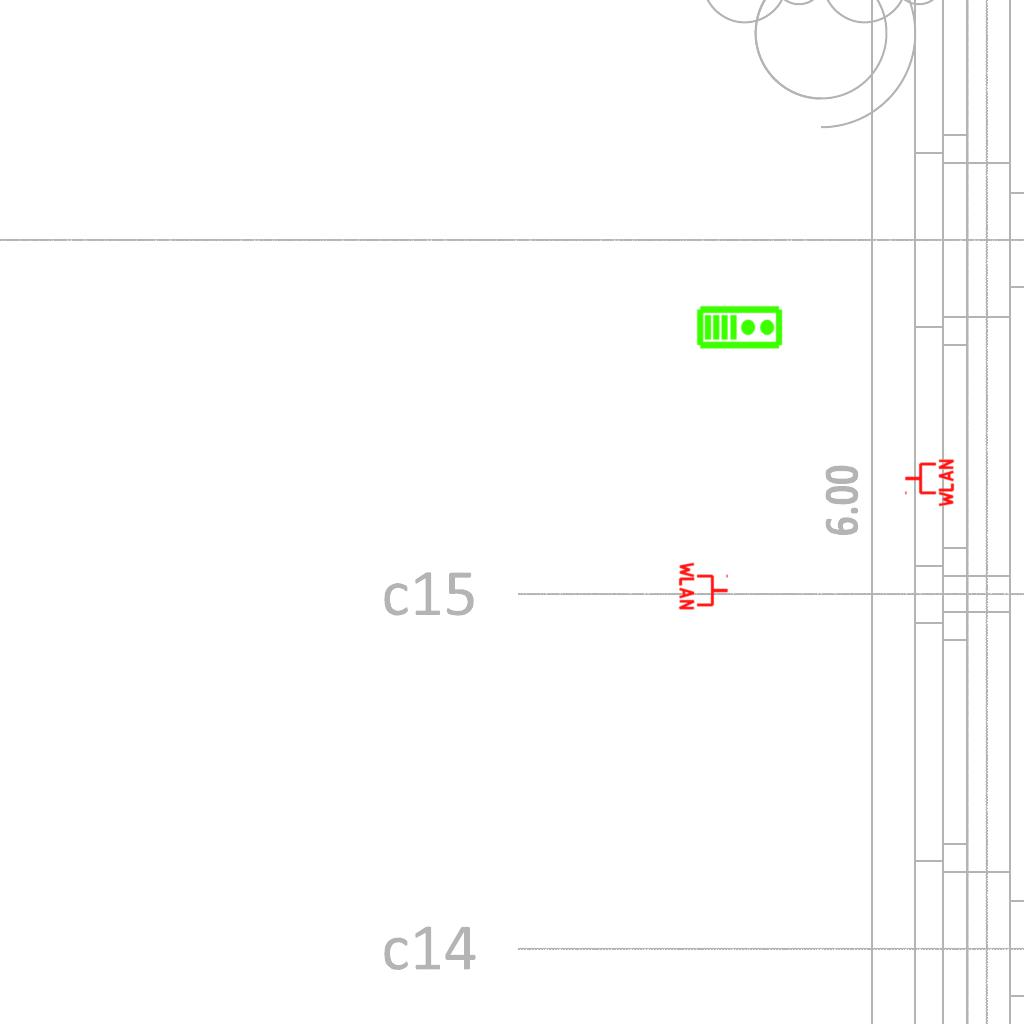Gegensprechanlage_mit_Video: (696, 303, 784, 350)
WLAN: (903, 457, 955, 509), (678, 560, 730, 612)
